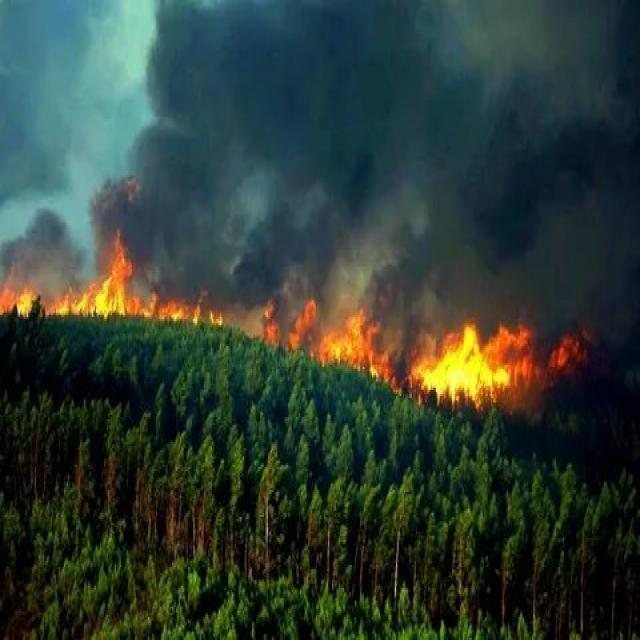Fire: (0, 258, 583, 408)
Smoke: (128, 0, 640, 299)
